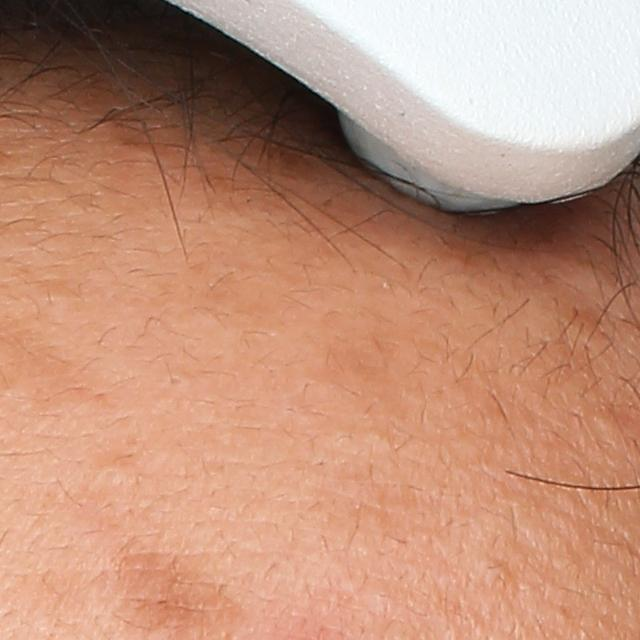comedo: (85, 453, 142, 493), (592, 406, 624, 439), (161, 373, 188, 390)
